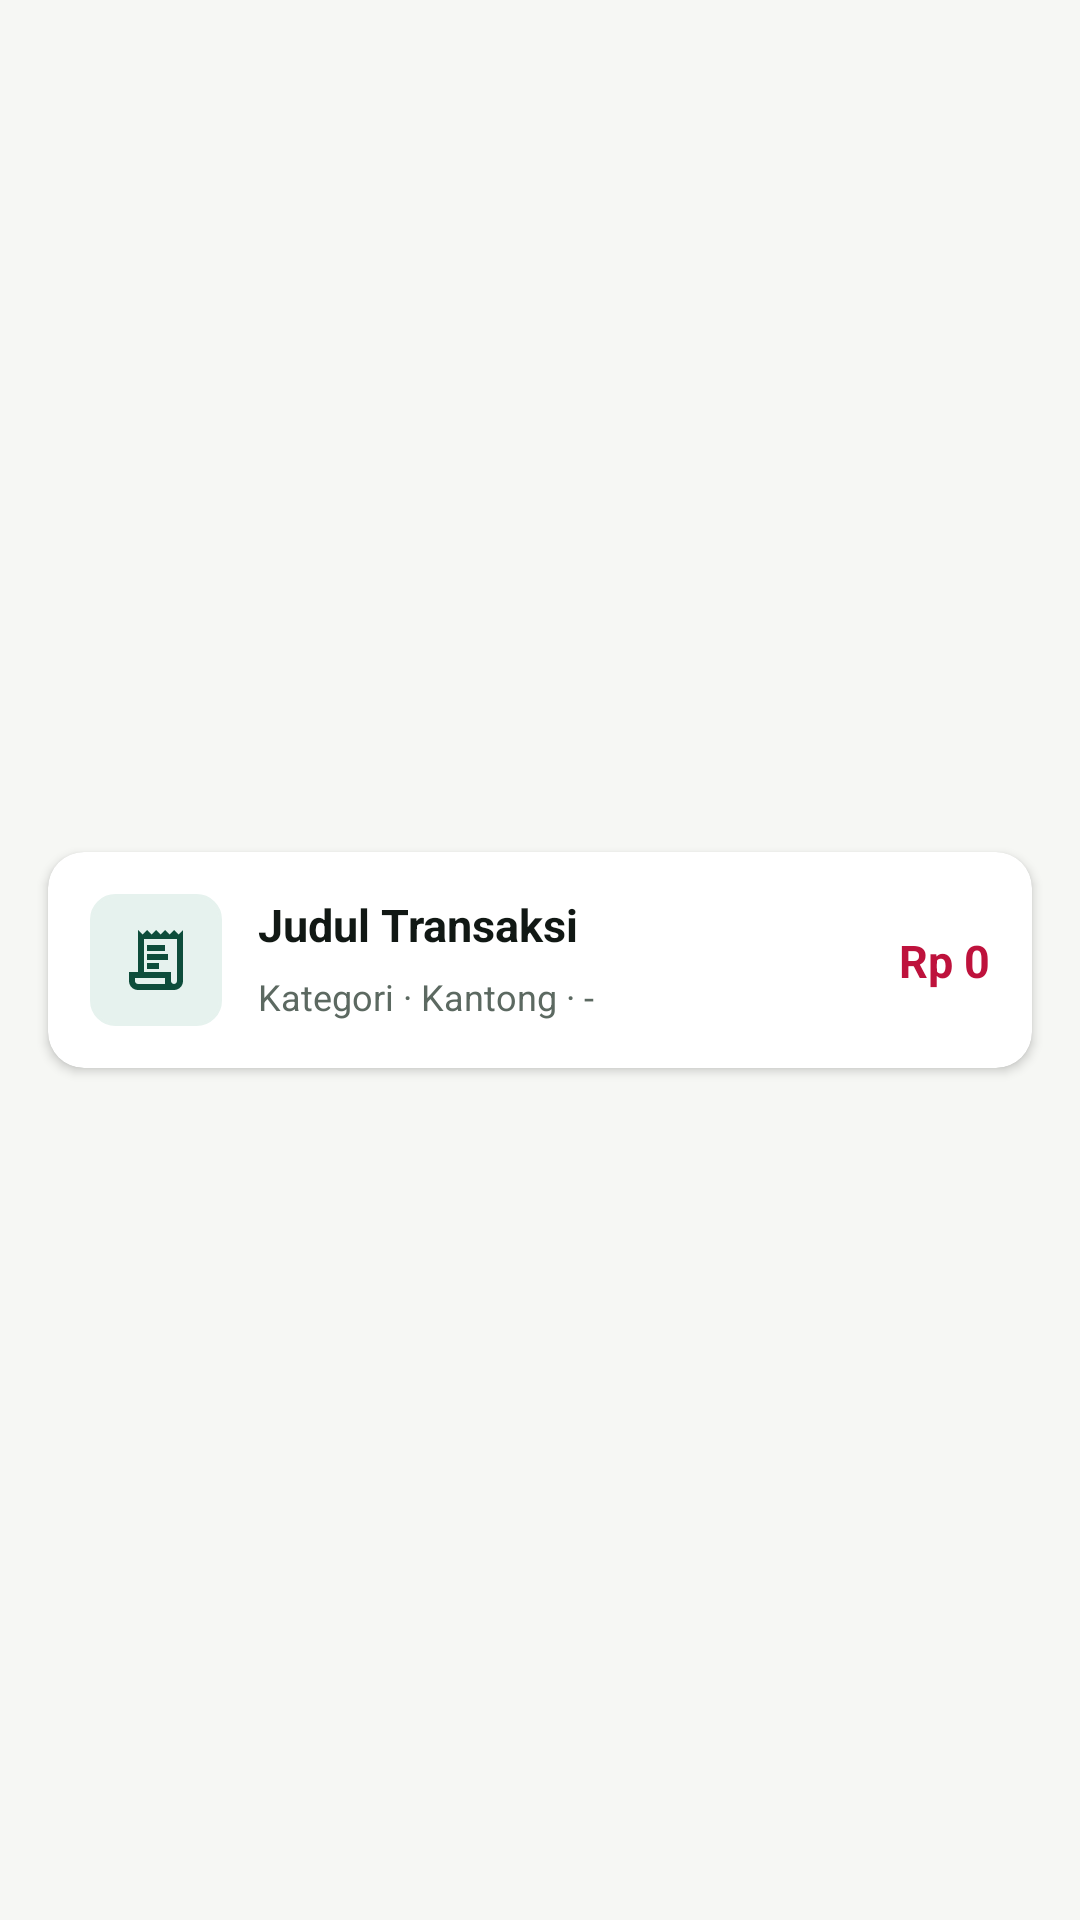

Point at icon controls on the screen. Image size 1080 x 1920, points as (x,y).
receipt long: (156,960)
